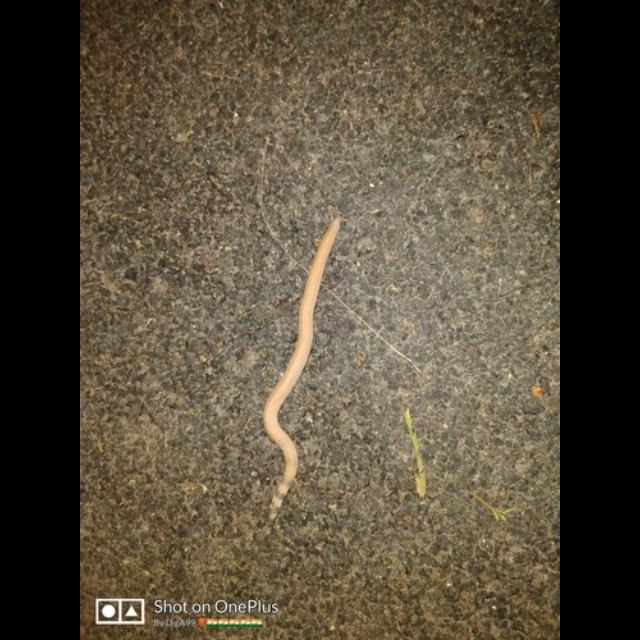snake: (239, 204, 363, 524)
